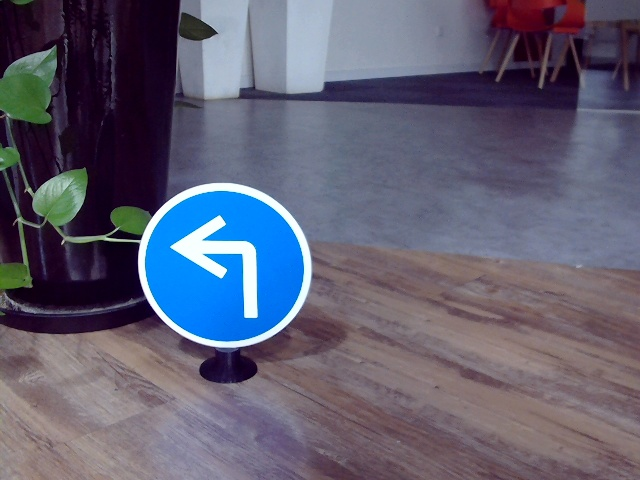turn_left: (166, 212, 267, 316)
